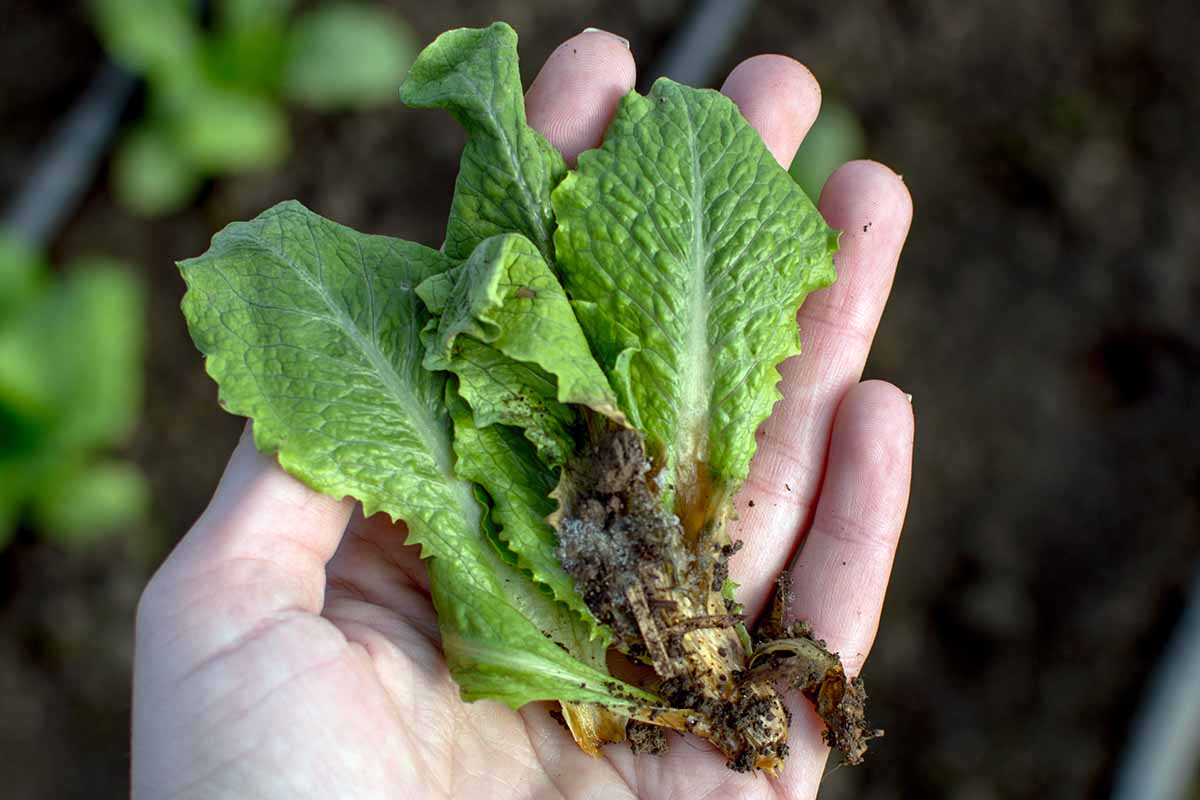lettuce: (153, 11, 994, 757)
